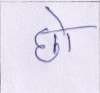e_matra: (46, 7, 67, 29)
